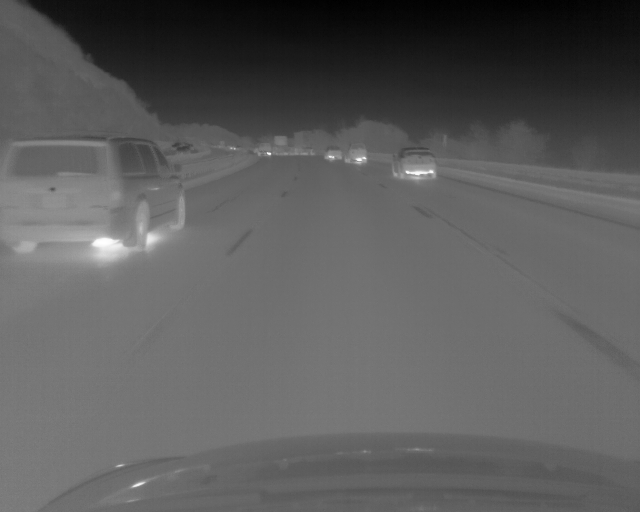car: (1, 136, 187, 254), (392, 147, 437, 179), (273, 136, 315, 156), (344, 143, 366, 163), (323, 145, 342, 162), (257, 142, 270, 156)
